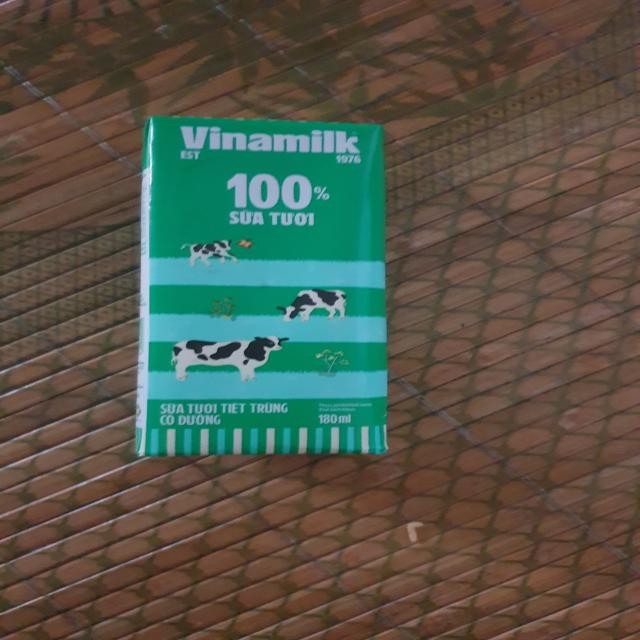Vina: (91, 114, 416, 457)
